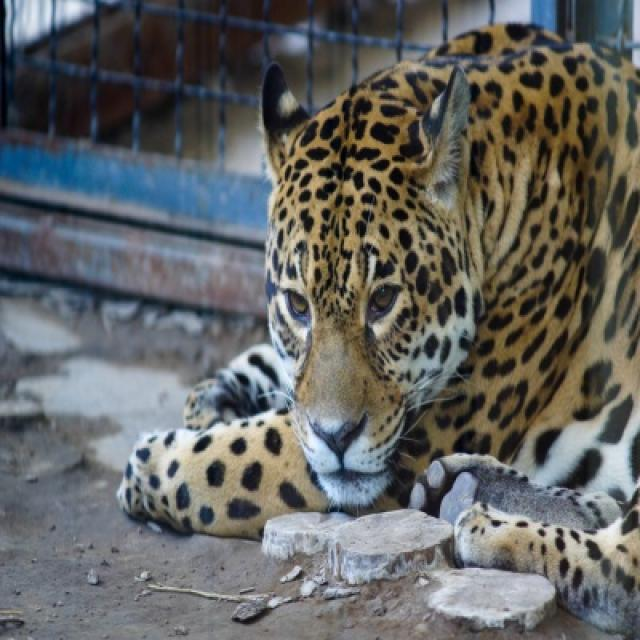Jaguar: (157, 24, 638, 622)
